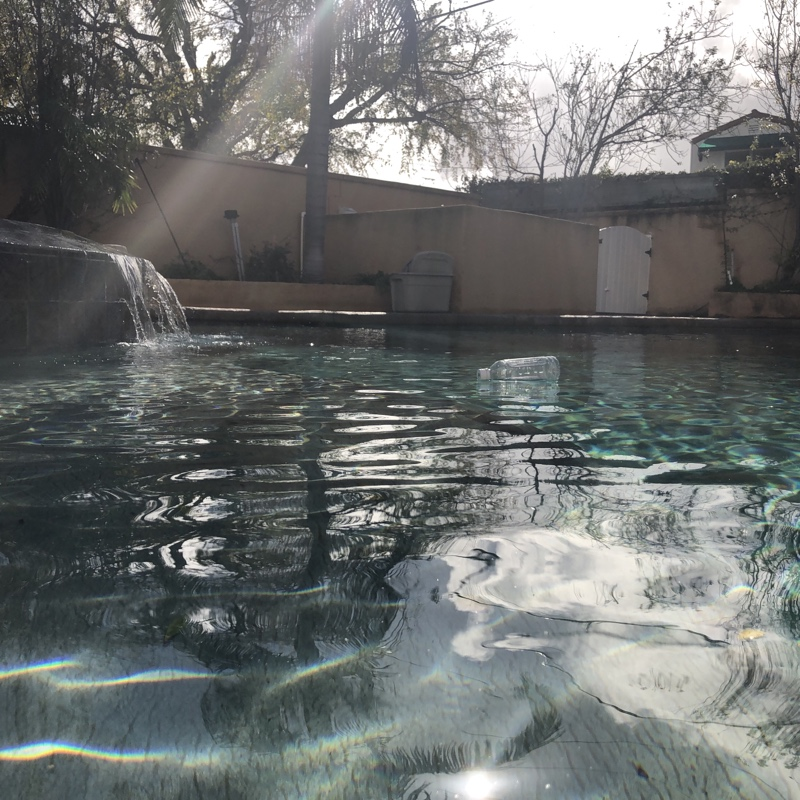Plastic Bottle: (474, 351, 561, 390)
